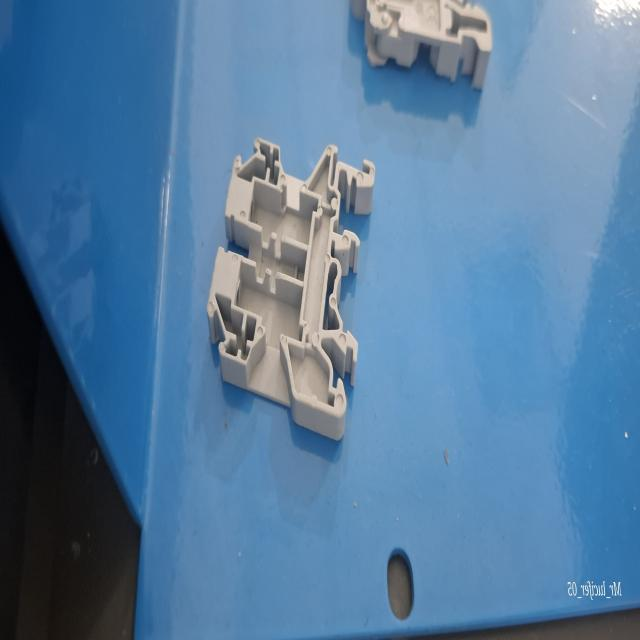Reject: (204, 136, 374, 434)
